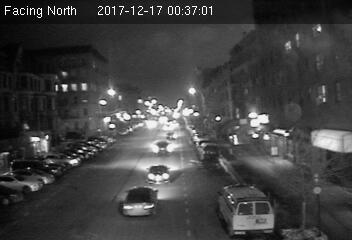car: (120, 186, 161, 219), (145, 164, 172, 186), (150, 139, 176, 157)
police: (218, 181, 278, 233)
